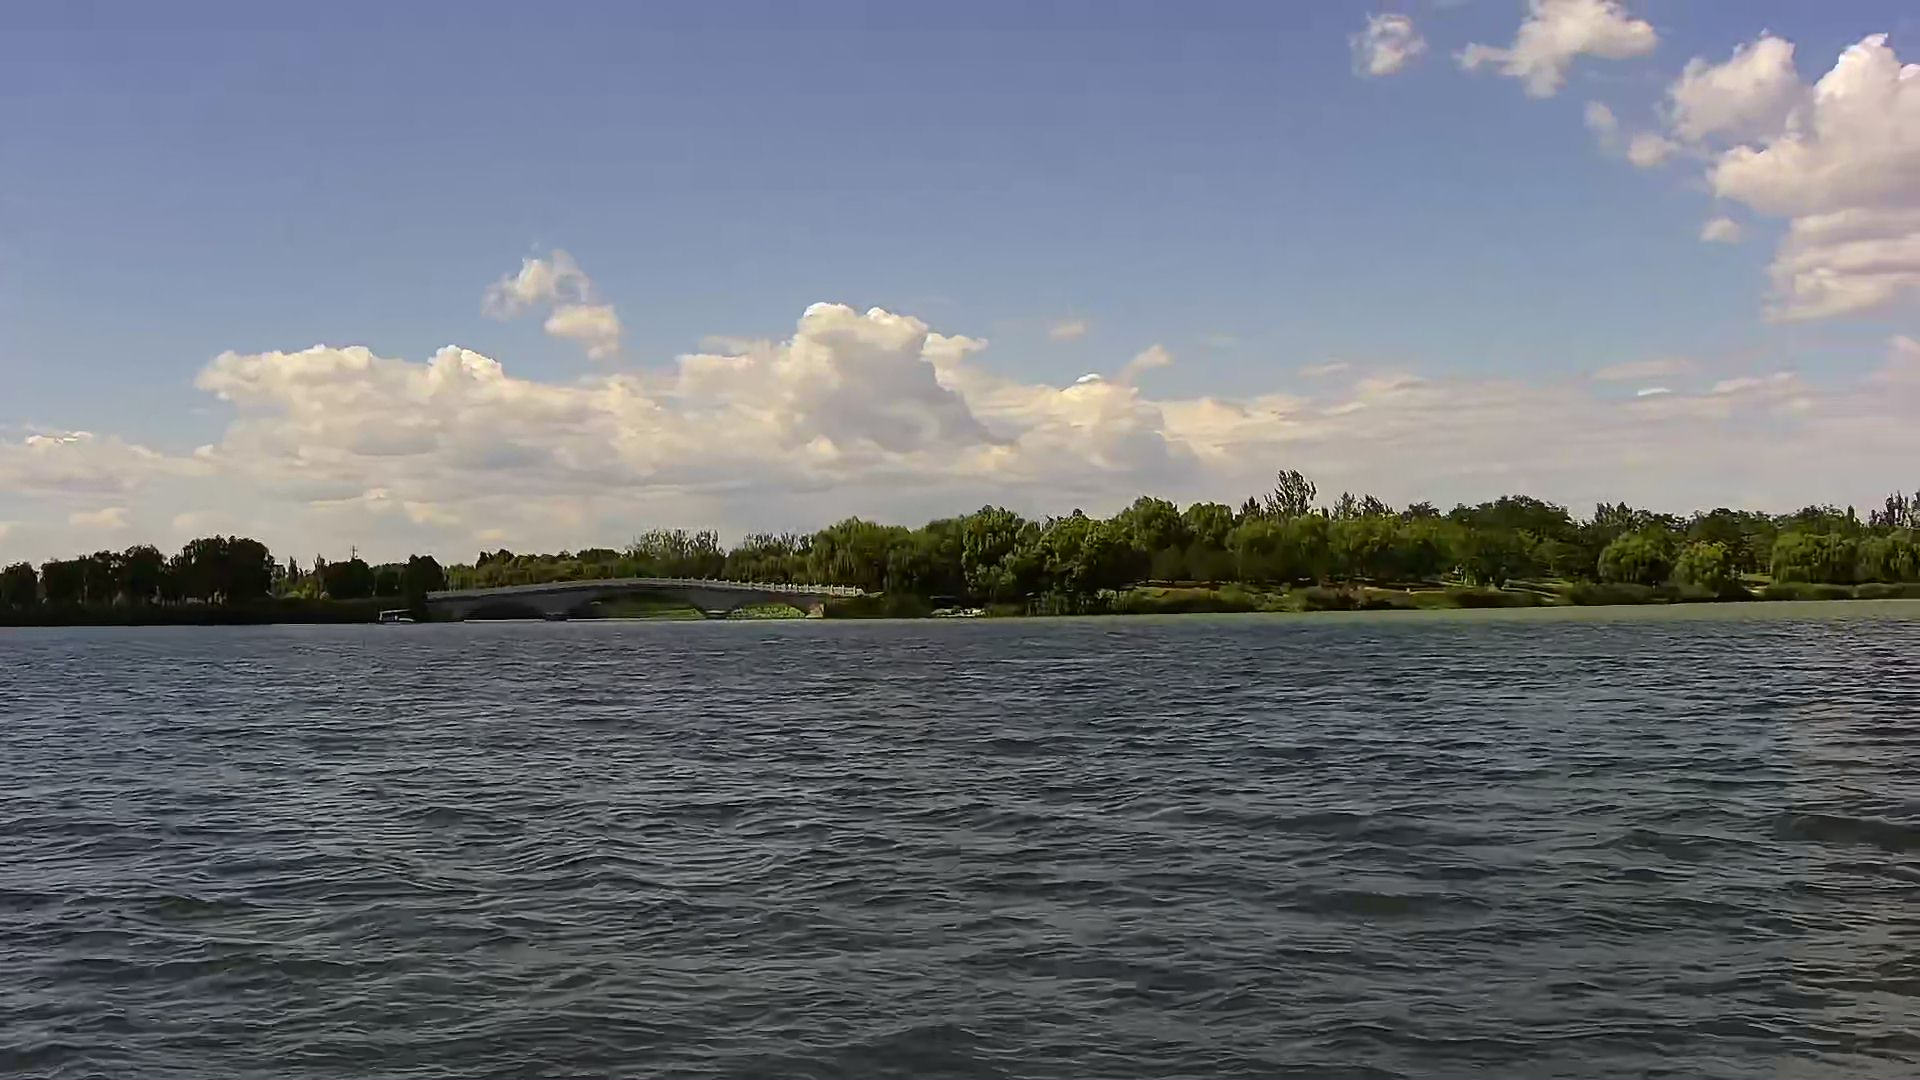bridge: (422, 570, 877, 622)
